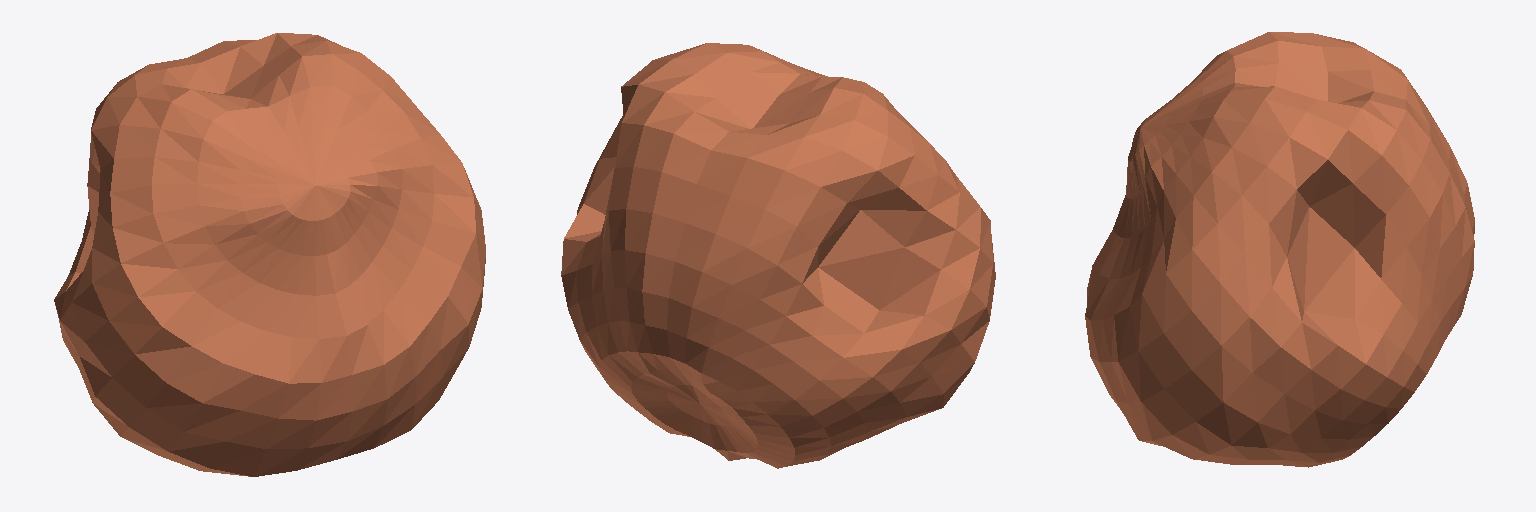
The model's file is asteroide.obj.
3 views of the same model, side by side, from view 1: azimuth 30°, elevation 25°; view 2: azimuth 150°, elevation 25°; view 3: azimuth 270°, elevation 25° (orthographic).
Parts seen in each view (by area): view 1: Sphere; view 2: Sphere; view 3: Sphere.
Boxes of the visible parts, <box> form: Sphere: <box>54,33,485,476</box>; Sphere: <box>561,43,995,468</box>; Sphere: <box>1085,32,1474,467</box>.
Size of the model in its own units: 3.14 by 2.94 by 2.72.